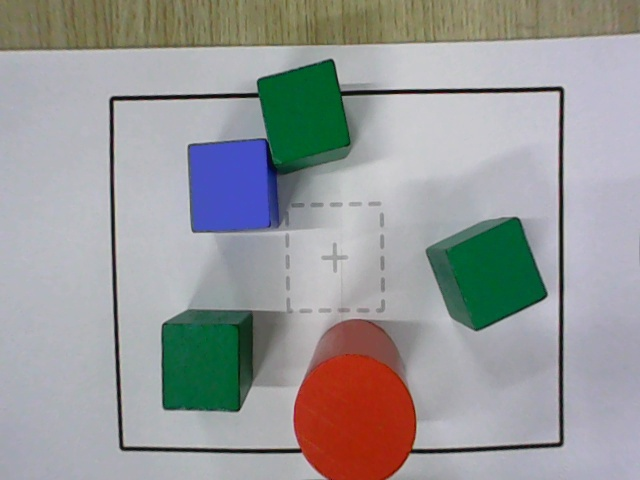upside of cylinder: (293, 353, 417, 479)
upside of small cube: (444, 216, 550, 332), (256, 57, 352, 165), (188, 138, 270, 231), (161, 323, 240, 412)
